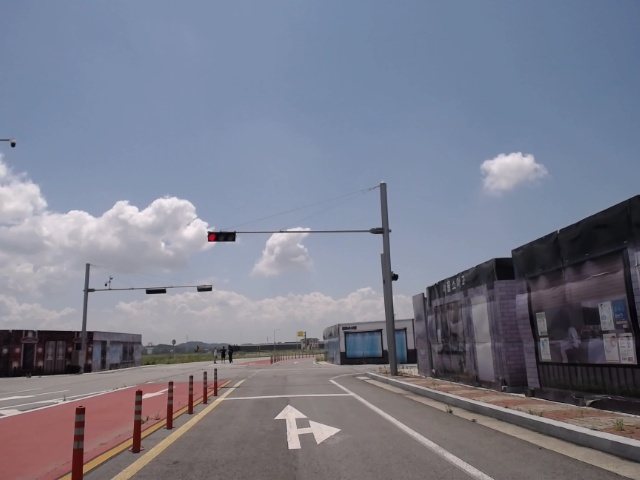red_3: (208, 231, 237, 243)
